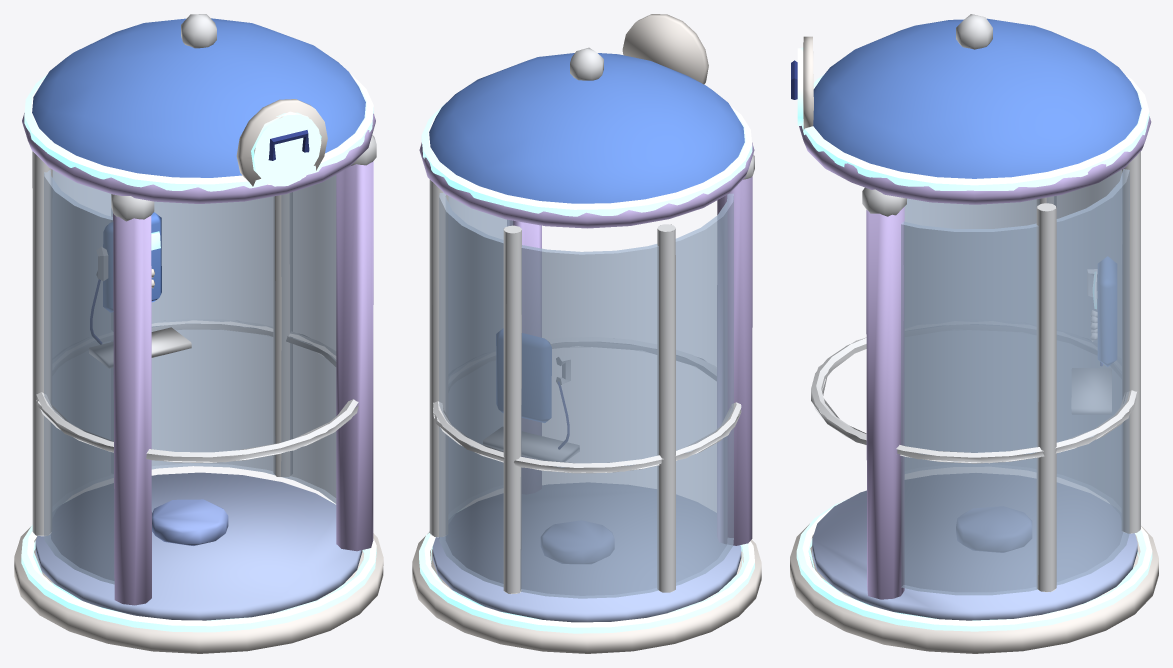
File: lite_phone_booth_capsule.glb
The picture shows the model from 3 angles, left to right: view 1: azimuth 30°, elevation 25°; view 2: azimuth 150°, elevation 25°; view 3: azimuth 270°, elevation 25°; orthographic projection. The views are drawn at different scales.
Parts seen in each view (by area): view 1: phone_booth_capsule; view 2: phone_booth_capsule; view 3: phone_booth_capsule.
Part boxes in pixels (x1=…): phone_booth_capsule: x1=14, y1=14, x2=383, y2=653; phone_booth_capsule: x1=412, y1=14, x2=761, y2=653; phone_booth_capsule: x1=790, y1=14, x2=1158, y2=653.
Bounding box in the file's own units: 1.89 × 3.17 × 1.89.
